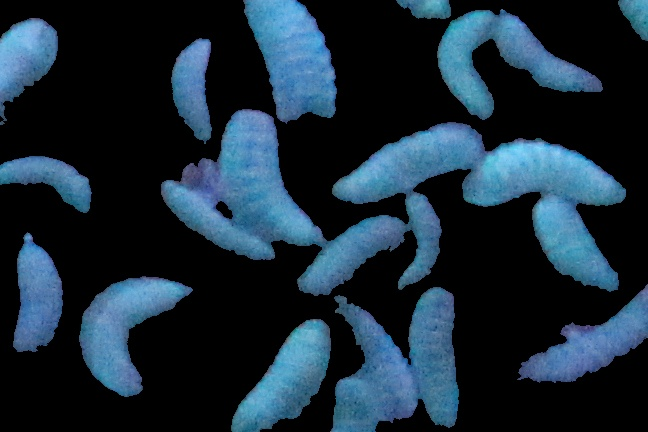larvae: (219, 110, 333, 251), (76, 278, 200, 398), (339, 113, 488, 205), (514, 283, 648, 383), (461, 137, 626, 209), (243, 1, 340, 122), (229, 318, 330, 432), (332, 296, 417, 417), (162, 183, 280, 262), (498, 11, 607, 96), (296, 215, 410, 296), (531, 198, 623, 289), (408, 289, 461, 432), (10, 229, 64, 368), (1, 19, 60, 131), (438, 10, 498, 118), (1, 155, 96, 214), (171, 37, 214, 138), (398, 190, 439, 287)
